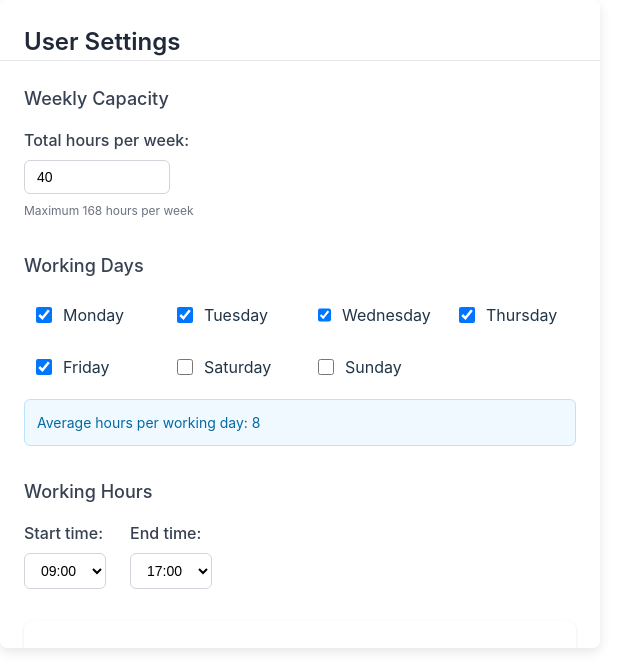
Scenario: UserSettings › limits weekly capacity to maximum 168 hours
This screenshot has width=618, height=670.
Replace the text in the number field labelled "Total hours per week:" with "200" at x=97, y=177, box [24, 160, 170, 194]
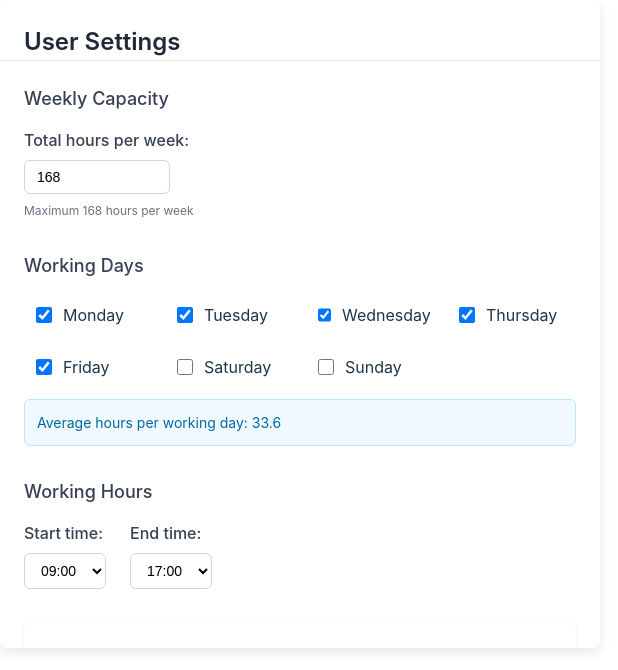
Expected: the number field labelled "Total hours per week:" holds "168", [24, 160, 170, 194]
